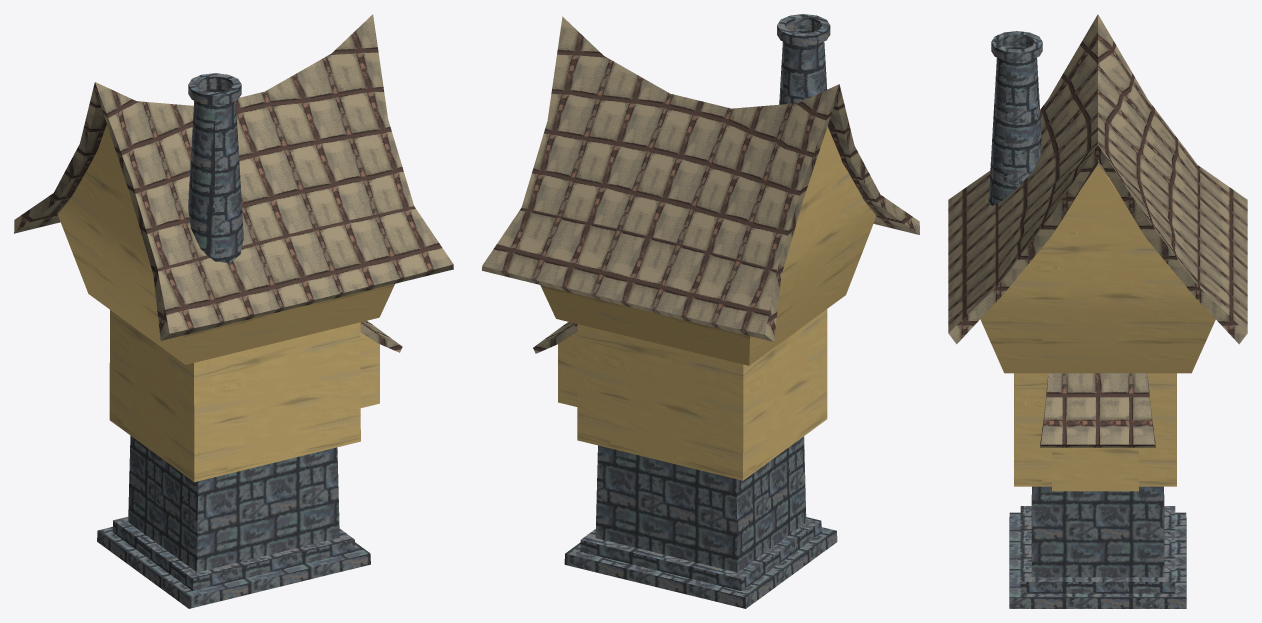
Rendered from CasaManutentorel.FBX.
3 views of the same model, side by side, from view 1: azimuth 30°, elevation 25°; view 2: azimuth 150°, elevation 25°; view 3: azimuth 270°, elevation 25° (orthographic). The views are drawn at different scales.
Parts seen in each view (by area): view 1: Object004; view 2: Object004; view 3: Object004.
Part boxes in pixels (x1=…): Object004: x1=14, y1=14, x2=453, y2=608; Object004: x1=482, y1=14, x2=919, y2=608; Object004: x1=948, y1=14, x2=1247, y2=608.
Bounding box in the file's own units: 0.9779 × 1.64 × 0.8977.
Materials: 3 (3 with a texture image).
